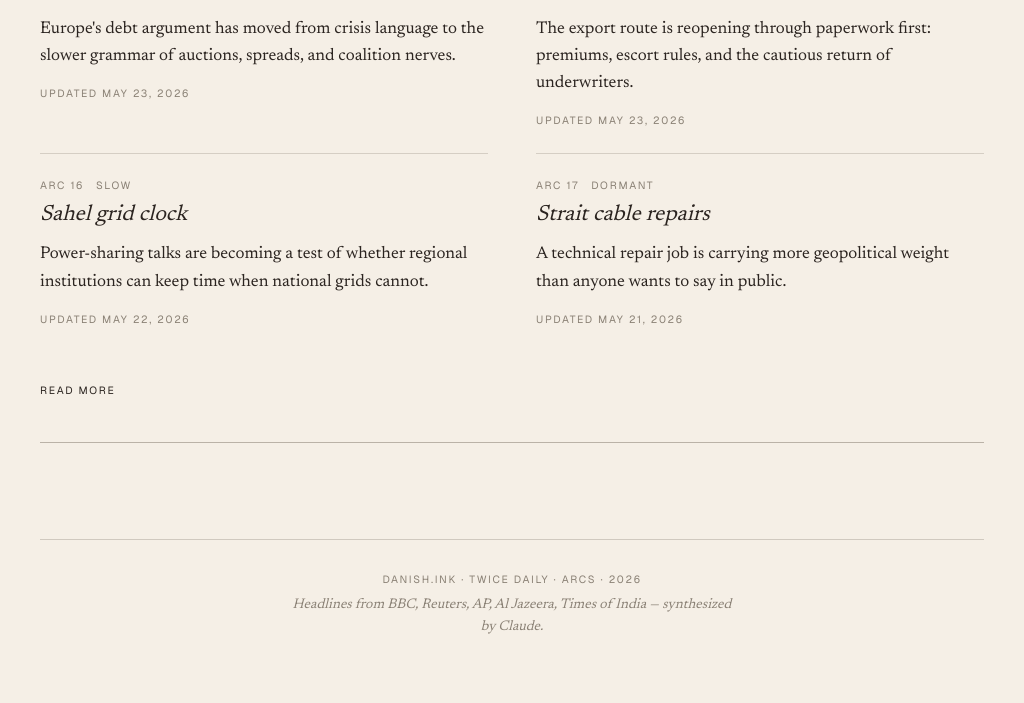
/ink › reveals more arcs and searches the shelf
(page scrolled)
Expected: the text "Coral court filing" is not shown
Click the button "Read more".
click(78, 391)  # box x1=40 y1=383 x2=116 y2=398
(page scrolled)
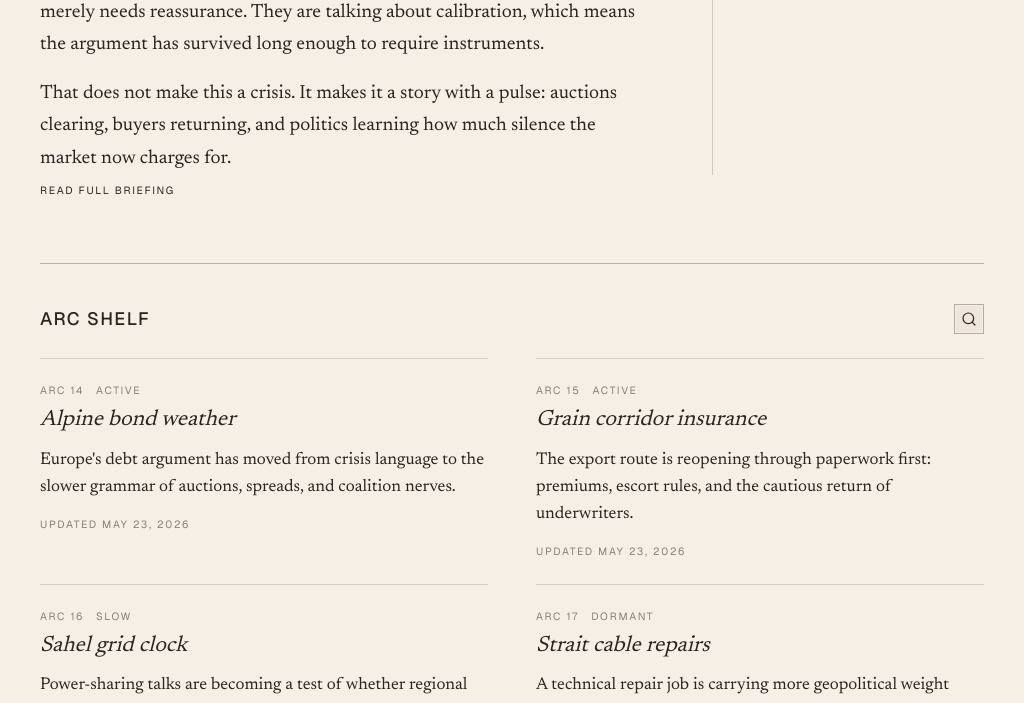
Click the button named "Search arcs".
click(969, 319)  # box x1=954 y1=304 x2=984 y2=334
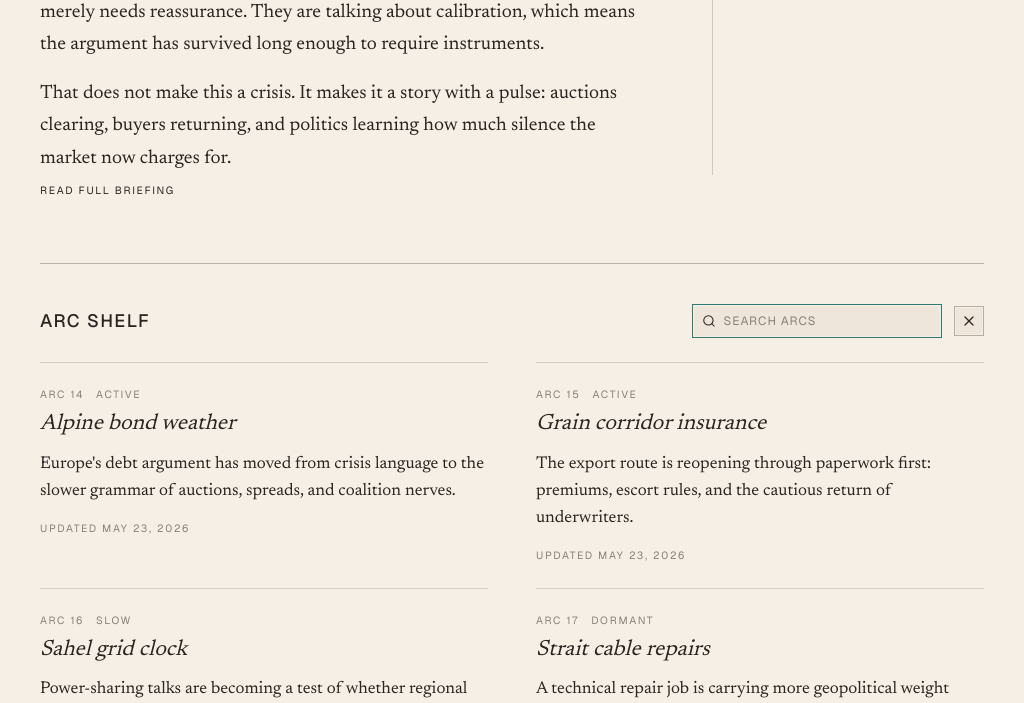
Type "coral" into the field with placeholder "Search arcs".
click(827, 321); type("coral")  # box x1=723 y1=305 x2=931 y2=337
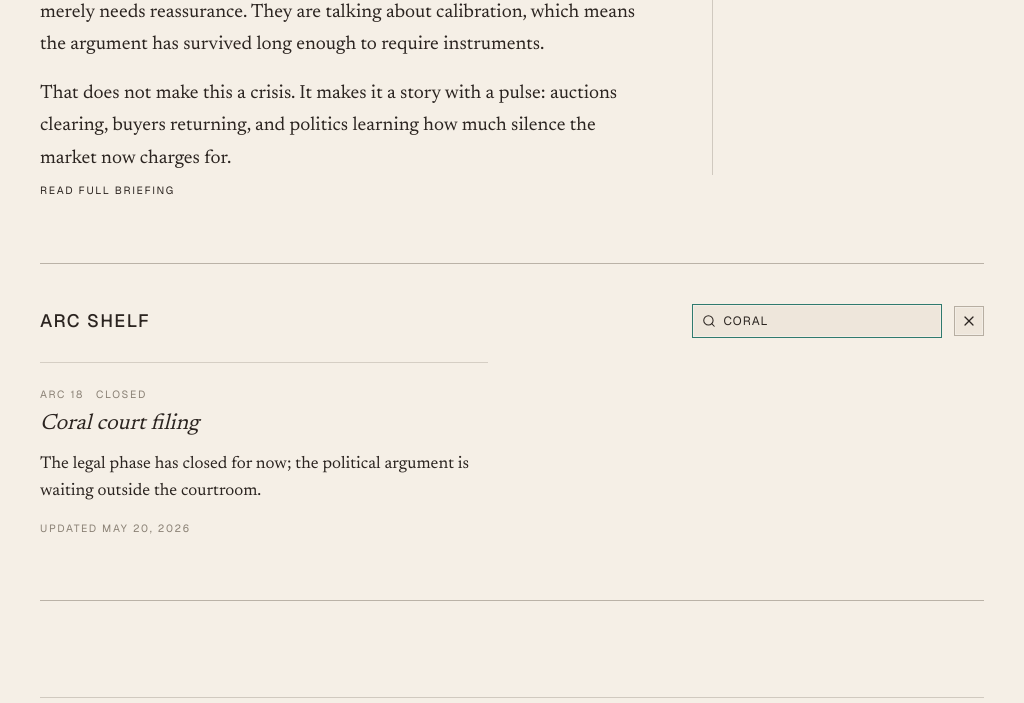
Expected: the links read "Coral court filing", in this order, x1=40 y1=413 x2=199 y2=435
